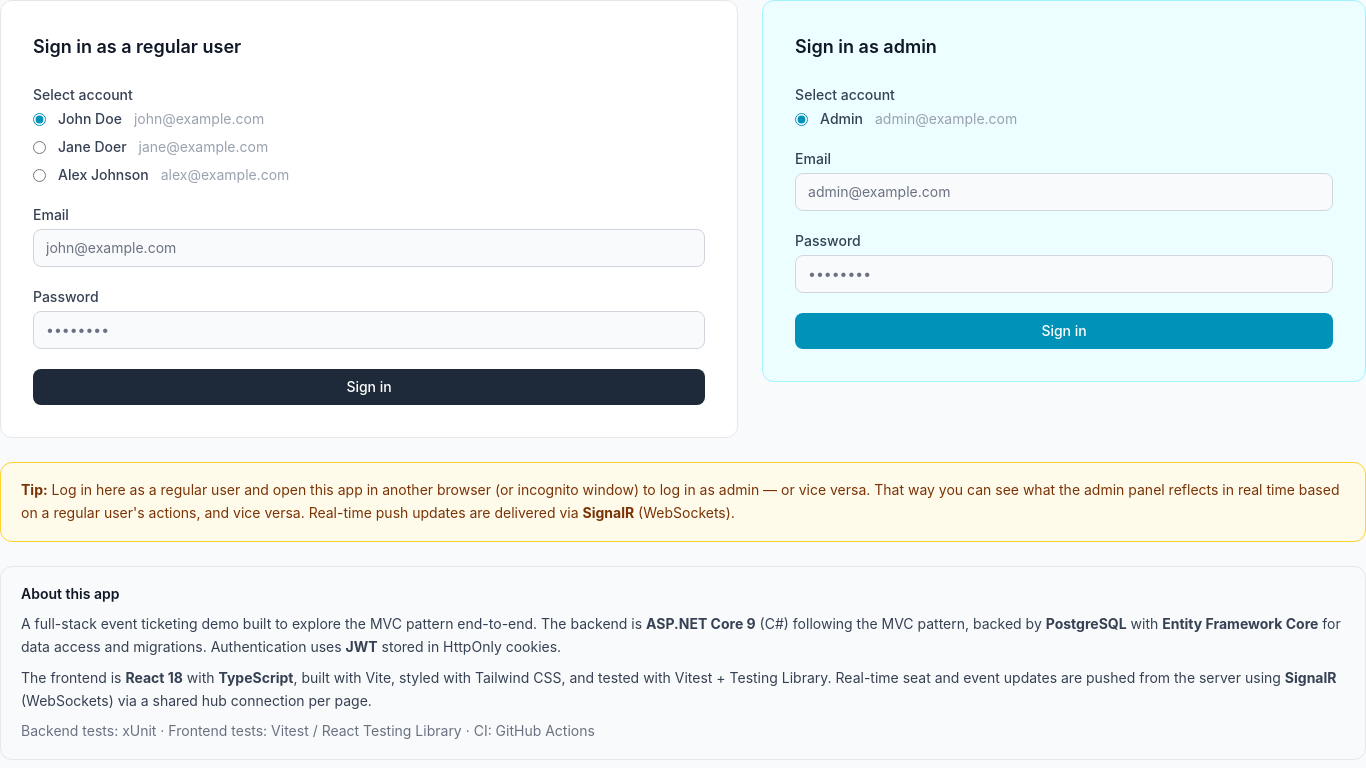
it: selecting Jane pre-fills her email in the user panel
The width and height of the screenshot is (1366, 768).
Click the radio button labelled "Jane Doer jane@example.com": (40, 147) [33, 140, 46, 154]
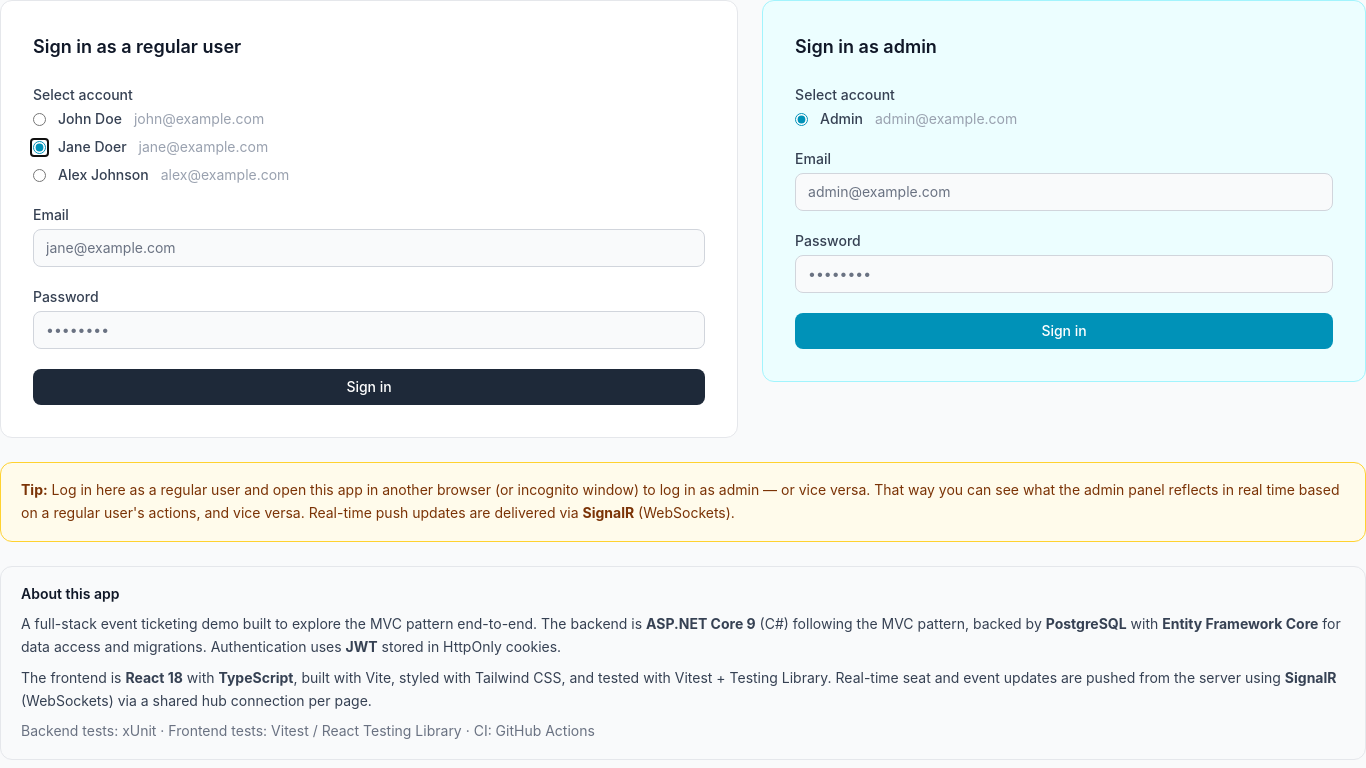
expect the field labelled "Email" below "Alex Johnson" holds "jane@example.com": met, box [33, 229, 705, 267]
